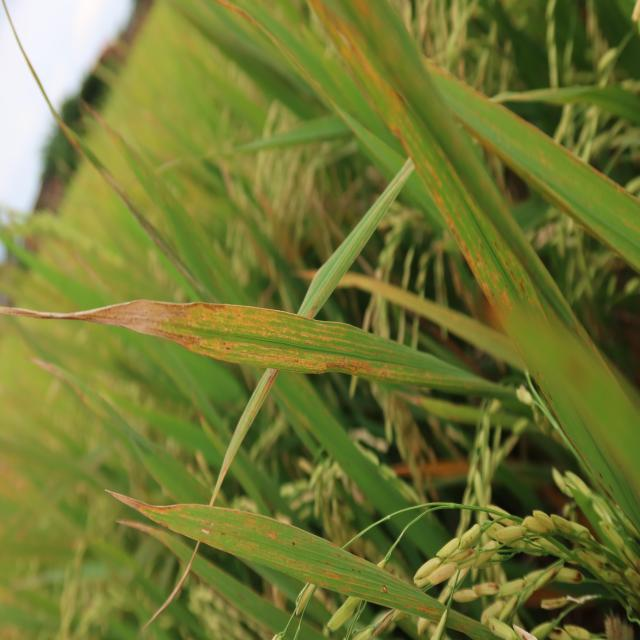Dom soc vi khuan: (327, 26, 514, 317), (63, 300, 454, 391), (434, 140, 550, 328)
